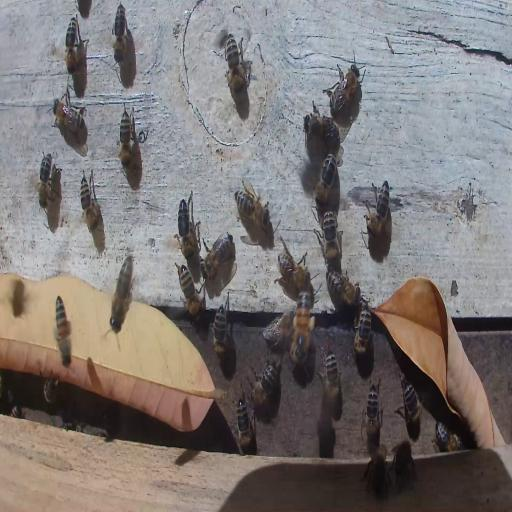nonpollenbee: (328, 62, 363, 116), (52, 91, 88, 143), (234, 185, 271, 234), (317, 337, 341, 412), (223, 37, 251, 99), (303, 101, 339, 145), (175, 264, 201, 322), (176, 191, 198, 259), (387, 439, 417, 487), (203, 232, 234, 278), (366, 179, 391, 236), (318, 209, 342, 267), (278, 248, 311, 290), (399, 377, 424, 432), (314, 153, 339, 207), (79, 170, 99, 235), (352, 298, 373, 355), (234, 396, 254, 455), (368, 451, 392, 499), (364, 380, 381, 445), (118, 107, 134, 173), (251, 369, 278, 407), (263, 312, 294, 344), (38, 152, 54, 211), (334, 270, 360, 306), (113, 2, 127, 64), (434, 423, 462, 453), (212, 305, 228, 354), (65, 15, 78, 75), (43, 376, 58, 406), (62, 419, 84, 430), (9, 405, 25, 417)
pollenbee: (108, 252, 136, 337), (52, 294, 75, 370), (292, 289, 315, 364)
